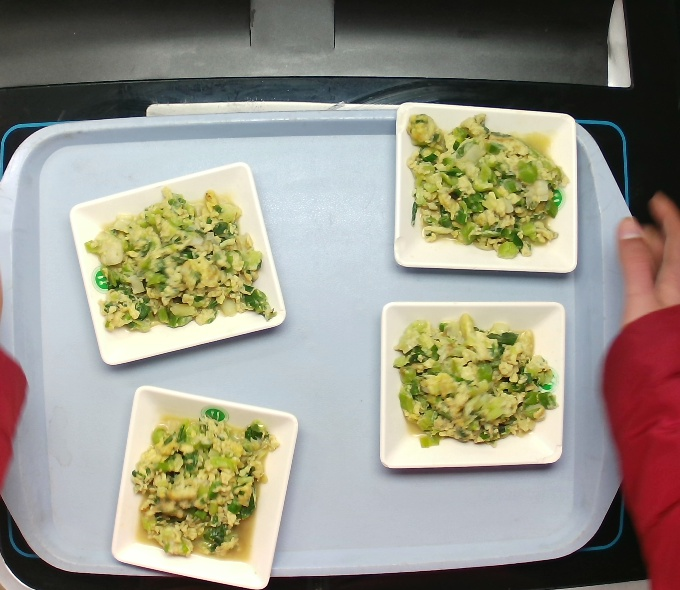wcq-SuanMiaoChaoDan: (117, 402, 280, 558), (90, 189, 253, 345), (400, 116, 561, 254), (392, 313, 551, 451)
